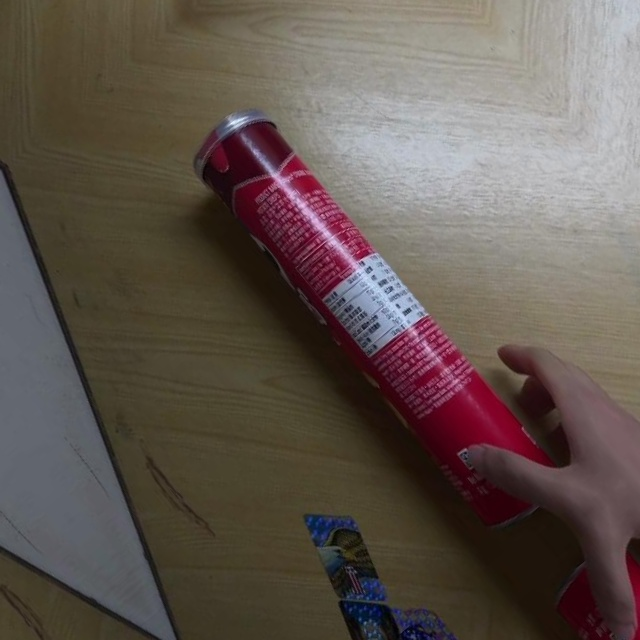Pringles: (179, 95, 580, 547)
